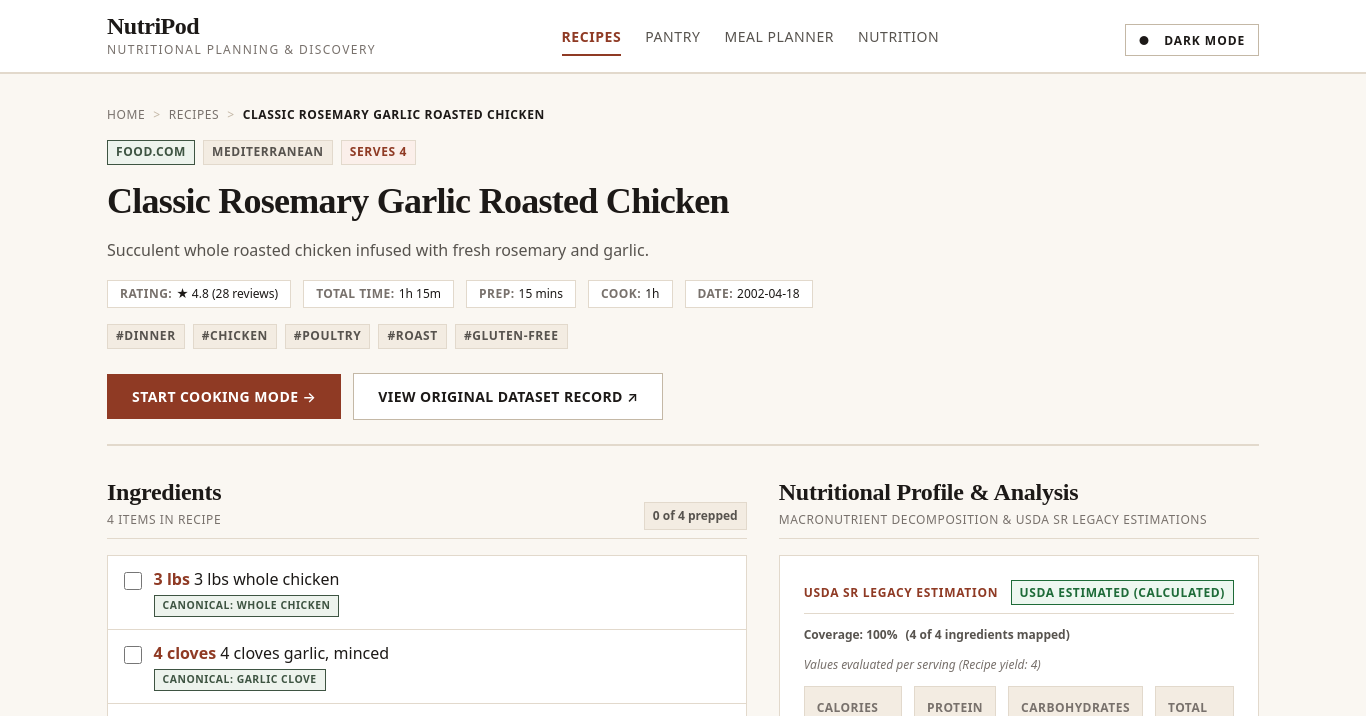
Scenario: Recipe Details, Ingredients, Instructions & Cooking Mode (Step 05.3) › 18. first instruction display in cooking mode
Click the button with test id "enter-cooking-mode-btn" at coordinates (224, 396), box x1=107 y1=374 x2=341 y2=418
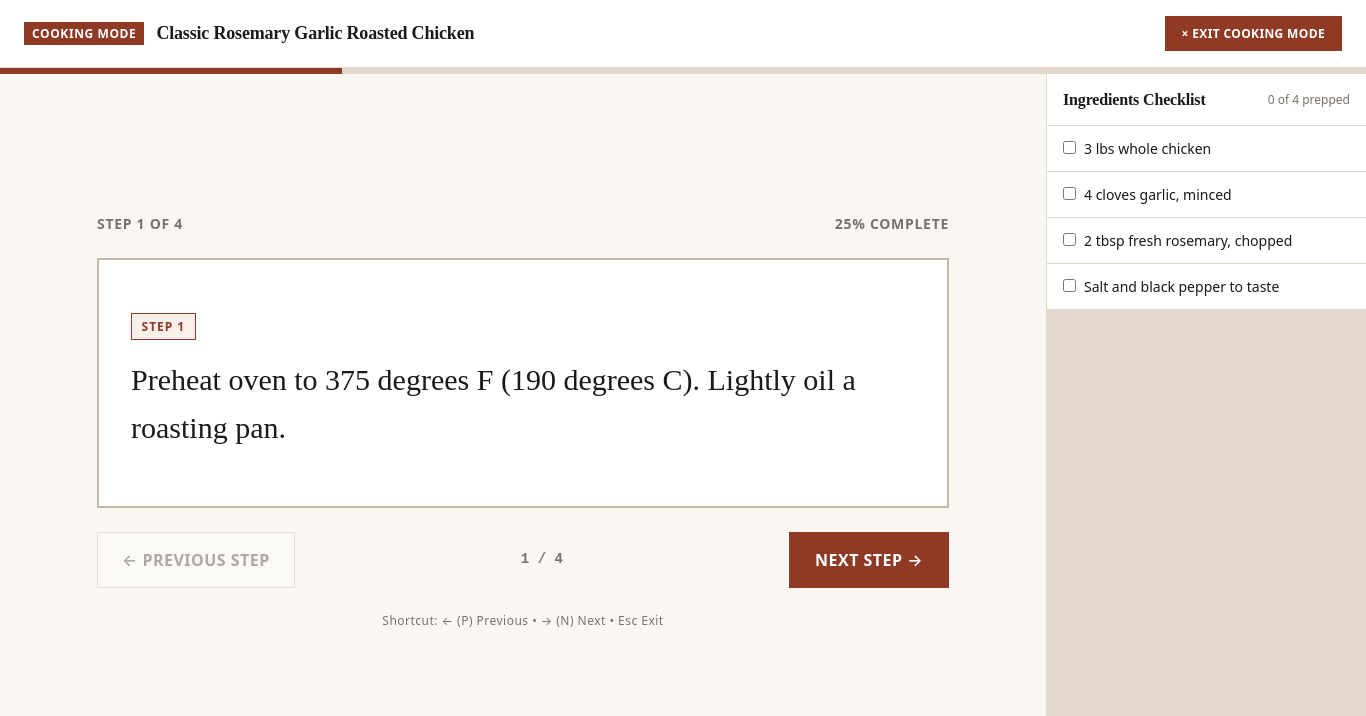
Expected: the text with test id "active-instruction-text" reads "Preheat oven to 375 degrees F (190 degrees C). Lightly oil a roasting pan.", x1=131 y1=363 x2=856 y2=444
Result: the element with test id "step-counter" shows "Step 1 of 4" at x1=97 y1=212 x2=949 y2=234
